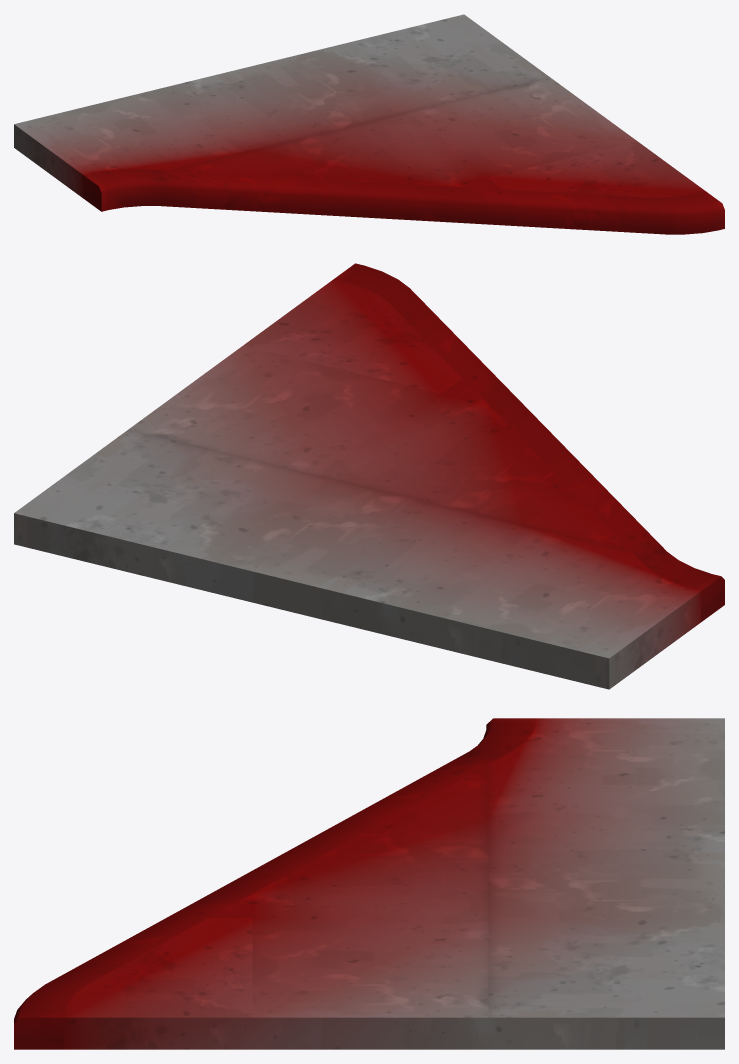
Rendered from Sidewalk_Inset_3m_R.gltf.
The picture shows the model from 3 angles, top to bottom: view 1: azimuth 30°, elevation 25°; view 2: azimuth 150°, elevation 25°; view 3: azimuth 270°, elevation 25°; orthographic projection. The views are drawn at different scales.
Parts seen in each view (by area): view 1: Sidewalk_Inset_3m_R; view 2: Sidewalk_Inset_3m_R; view 3: Sidewalk_Inset_3m_R.
Part boxes in pixels (box(x1,y1,x2,y2)): Sidewalk_Inset_3m_R: box(14, 14, 724, 234); Sidewalk_Inset_3m_R: box(14, 263, 724, 689); Sidewalk_Inset_3m_R: box(14, 718, 724, 1049).
Bounding box in the file's own units: 3 × 0.15 × 3.01.
1 material, 1 textured.
